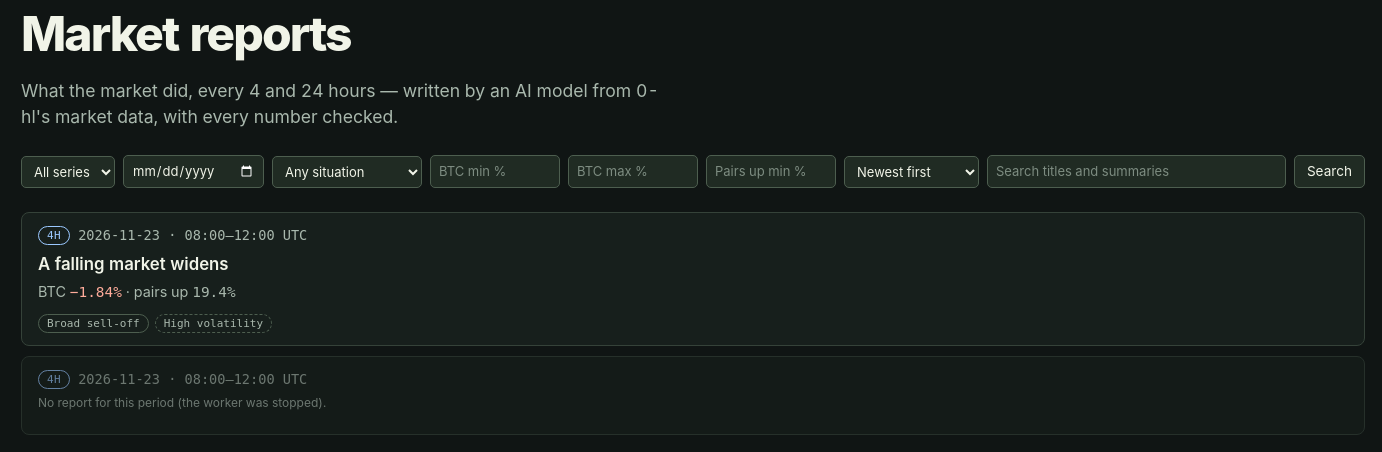
pages › lists reports with figures and tags, and filters through the URL
This screenshot has width=1382, height=452.
Later steps or results of the test are not shown.
Expected: the list item with test id "report-r1" shows "A falling market widens", [38,254,229,274]
Expected: the list item with test id "report-r1" shows "BTC −1.84%", [21,212,1365,346]
Select "24h" in the dropdown named "Series" at (68, 172), box [21,156,115,188]
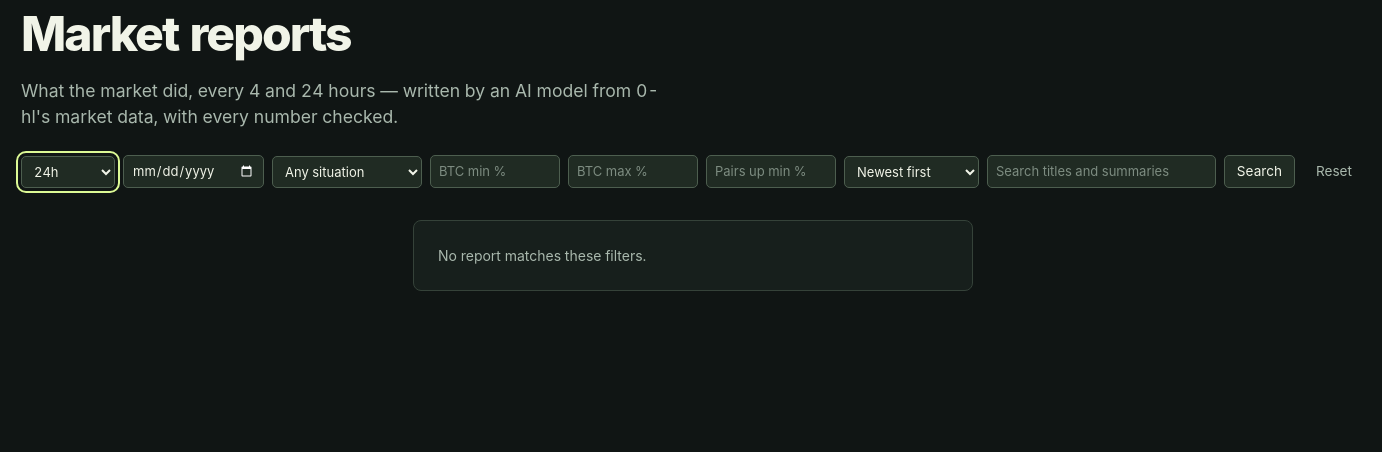
Expected: the text "No report matches these filters." is shown, [413,220,973,291]
